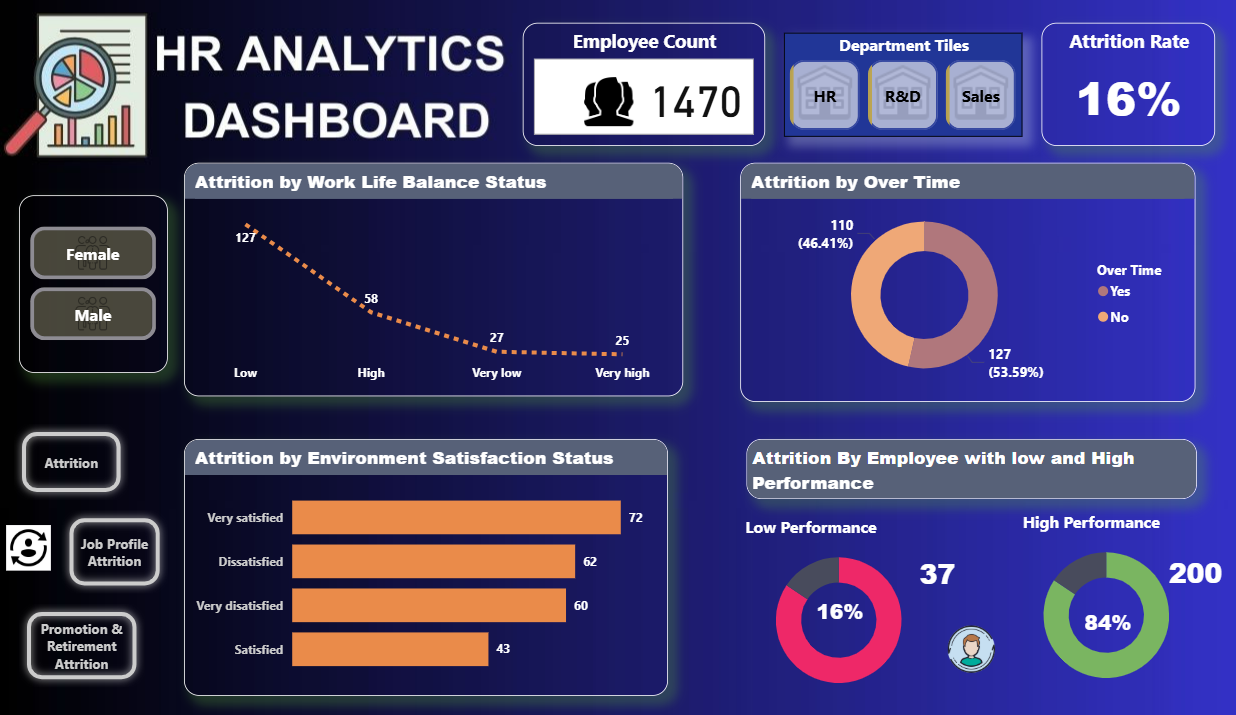

What the dashboard file says about the page in this screenshot:
{"tool":"powerbi","page":{"name":"Work Environment Attrition","canvas":[1280,720],"ordinal":1},"visuals":[{"type":"card","title":"Attrition Rate","fields":{"Values":["Measurements.% Attrition"]},"box":[1062.5,23.6,173.8,122.9],"z":0},{"type":"donutChart","title":"Low Performance","fields":{"Y":["Measurements.# Attrition"],"Category":["Fact_HR Attrition.Performance Status"]},"box":[760.9,516.4,197.4,188.7],"z":1000},{"type":"card","fields":{"Values":["Measurements.Low Performance %"]},"box":[827.9,594.6,67,38.5],"z":2000},{"type":"donutChart","title":"High Performance","fields":{"Y":["Measurements.# Attrition"],"Category":["Fact_HR Attrition.Performance Status"]},"box":[1039,511.4,177.5,188.7],"z":3000},{"type":"card","fields":{"Values":["Measurements.High Performance %"]},"box":[1094.8,605.7,68.3,37.2],"z":4000},{"type":"card","fields":{"Values":["Measurements.# Attrition"]},"box":[924.8,557.3,67,37.2],"z":5000},{"type":"card","fields":{"Values":["Measurements.# Attrition"]},"box":[1184.2,556.1,65.8,37.2],"z":6000},{"type":"lineChart","title":"Attrition by Work Life Balance Status","fields":{"Category":["Fact_HR Attrition.Work Life Balance Status"],"Y":["Measurements.# Attrition"]},"box":[204.5,164.2,499.5,233.7],"z":7000},{"type":"barChart","title":"Attrition by Environment Satisfaction Status","fields":{"Category":["Dim_Emp Performance.Environmet Satisfaction Status"],"Y":["Measurements.# Attrition"]},"box":[204.8,439.4,484.1,256.9],"z":8000},{"type":"donutChart","title":"Attrition by Over Time","fields":{"Y":["Measurements.# Attrition"],"Category":["Fact_HR Attrition.Over Time"]},"box":[761,164.2,455,239.3],"z":9000},{"type":"actionButton","box":[35,424.7,114.6,76],"z":10000},{"type":"advancedSlicerVisual","title":"Gender Slicer","fields":{"Values":["Dim_Employees.Gender"]},"box":[39.7,196.1,149,177.5],"z":11000},{"type":"cardVisual","title":"Employee Count","fields":{"Data":["Measurements.# Employees"]},"box":[543.7,23.6,242.1,122.9],"z":12000},{"type":"shape","title":"Attrition By Employee with low and High Performance","box":[767.3,440.4,450,60.3],"z":13000},{"type":"advancedSlicerVisual","title":"Department Tiles","fields":{"Values":["Dim_Employees Department.Department"]},"box":[805.6,33.5,238.3,104.3],"z":14000},{"type":"image","box":[938.4,612,106.8,75.7],"z":15000},{"type":"image","box":[18.1,521.2,63.9,55.5],"z":16000},{"type":"image","box":[594.8,68.8,70,68.8],"z":17000},{"type":"actionButton","box":[82,511.5,106.2,83.2],"z":18000},{"type":"actionButton","box":[39.8,604.4,125.5,83.2],"z":19000}]}

Visuals, with their boxes in screenshot pixels (x1, y1, x2, y2), scaled from the page's 1280x720 canvas onto the 1236x715 screenshot:
"Attrition Rate" card: [left=1026, top=23, right=1194, bottom=145]
"Low Performance" donutChart: [left=735, top=513, right=925, bottom=700]
card - Measurements.Low Performance %: [left=799, top=590, right=864, bottom=629]
"High Performance" donutChart: [left=1003, top=508, right=1175, bottom=695]
card - Measurements.High Performance %: [left=1057, top=601, right=1123, bottom=638]
card - Measurements.# Attrition: [left=893, top=553, right=958, bottom=590]
card - Measurements.# Attrition: [left=1143, top=552, right=1207, bottom=589]
"Attrition by Work Life Balance Status" lineChart: [left=197, top=163, right=680, bottom=395]
"Attrition by Environment Satisfaction Status" barChart: [left=198, top=436, right=665, bottom=691]
"Attrition by Over Time" donutChart: [left=735, top=163, right=1174, bottom=401]
actionButton: [left=34, top=422, right=144, bottom=497]
"Gender Slicer" advancedSlicerVisual: [left=38, top=195, right=182, bottom=371]
"Employee Count" cardVisual: [left=525, top=23, right=759, bottom=145]
"Attrition By Employee with low and High Performance" shape: [left=741, top=437, right=1175, bottom=497]
"Department Tiles" advancedSlicerVisual: [left=778, top=33, right=1008, bottom=137]
image: [left=906, top=608, right=1009, bottom=683]
image: [left=17, top=518, right=79, bottom=573]
image: [left=574, top=68, right=642, bottom=137]
actionButton: [left=79, top=508, right=182, bottom=591]
actionButton: [left=38, top=600, right=160, bottom=683]
